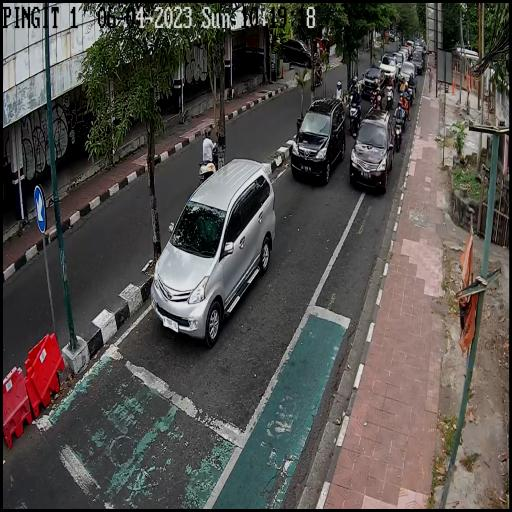mobil: (152, 159, 279, 345), (292, 96, 346, 184), (351, 108, 394, 195), (363, 63, 384, 100), (378, 50, 398, 84), (398, 60, 418, 92)
motor: (196, 141, 222, 185), (346, 102, 362, 135), (393, 112, 405, 152), (406, 82, 416, 108), (384, 85, 394, 106)
